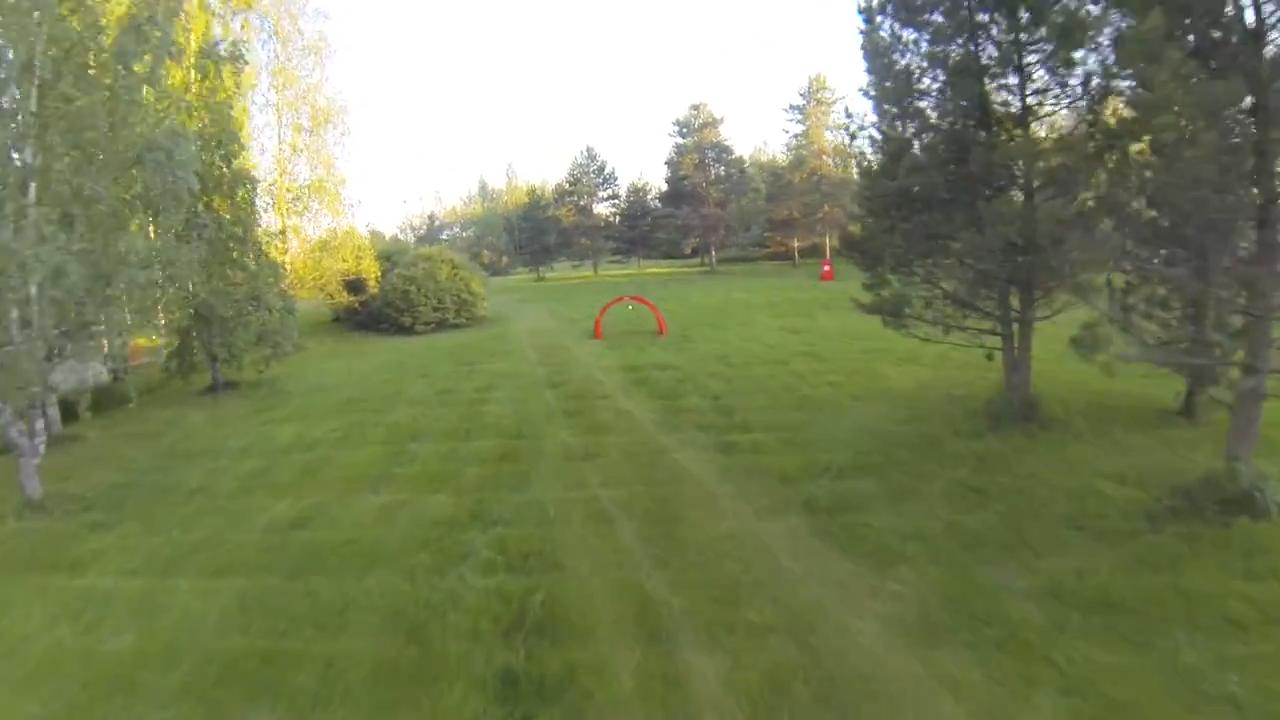gate: (591, 292, 672, 343)
